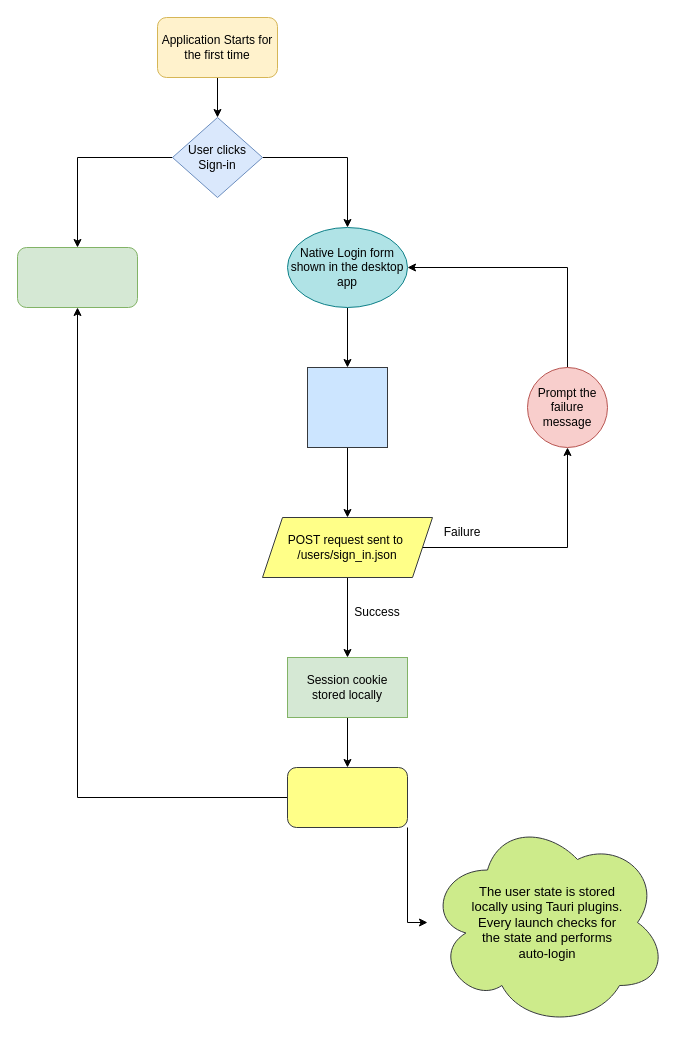
Image size: 685x1045. Some labels were removed from this diagram. Here are the shapes that lost their labels. From the top down, the centre of each, then its label:
At (77,277): "User can go ahead and create circuits".
At (347,407): "User enters email and password".
At (347,797): "User logged in and can save circuits online".
